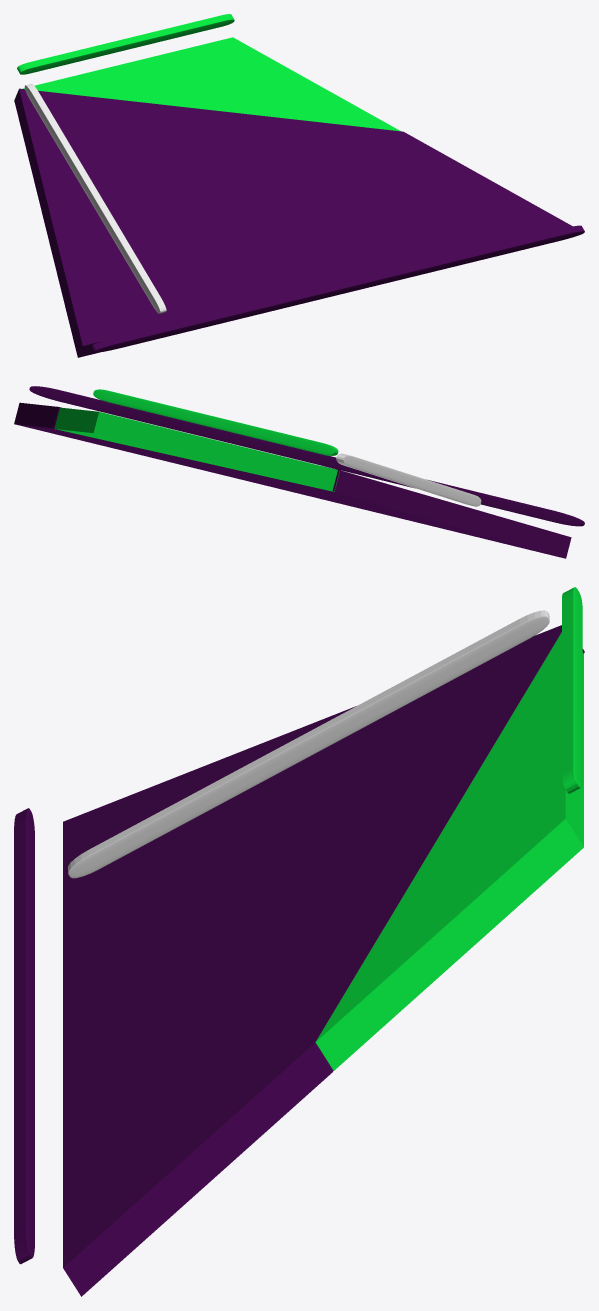
Rendered from trapezium_archipluvian_small.gltf.
3 renders of one model, top to bottom at view 1: azimuth 30°, elevation 25°; view 2: azimuth 150°, elevation 25°; view 3: azimuth 270°, elevation 25°, orthographic. The views are drawn at different scales.
Parts seen in each view (by area): view 1: Triangle, ExtraTr, Height; view 2: Triangle, ExtraTr, Height; view 3: Triangle, ExtraTr, Height.
Boxes of the visible parts, x1,y1,x2,y2 form: Triangle: (14, 88, 584, 357); ExtraTr: (14, 14, 400, 131); Height: (24, 83, 166, 313); Triangle: (14, 386, 584, 558); ExtraTr: (54, 389, 339, 491); Height: (336, 453, 481, 506); Triangle: (14, 625, 584, 1296); ExtraTr: (315, 587, 583, 1071); Height: (68, 610, 549, 878).
Size of the model in its own units: 0.3594 by 0.1253 by 0.1943.
